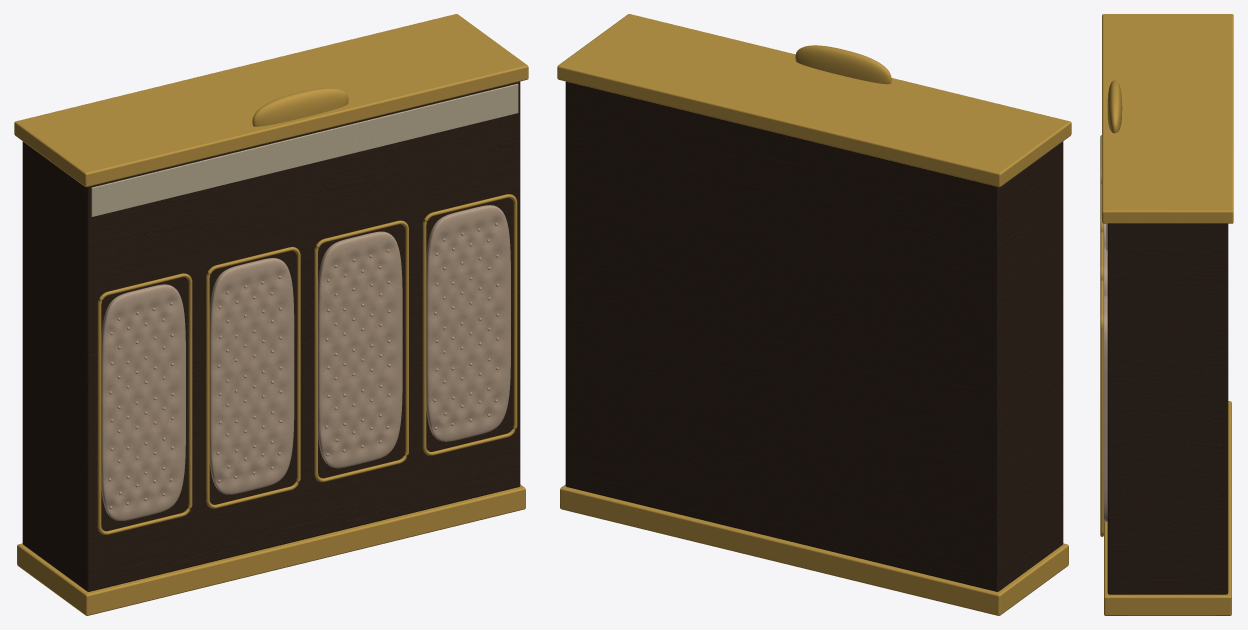
The model's file is empire-royal-bed-set--wardrobe.glb.
The picture shows the model from 3 angles, left to right: view 1: azimuth 30°, elevation 25°; view 2: azimuth 150°, elevation 25°; view 3: azimuth 270°, elevation 25°; orthographic projection. The views are drawn at different scales.
Visible parts, largest first — view 1: body, cornice, door1, door3, door0, door2, band, base, frame0, frame3, frame1, frame2 (+1 smaller); view 2: body, cornice, base, crest; view 3: body, cornice, base, frame3, door3, crest.
Boxes of the visible parts, bbox=[...] form: body: bbox=[22, 81, 520, 591]; cornice: bbox=[14, 14, 528, 187]; door1: bbox=[209, 258, 294, 494]; door3: bbox=[426, 205, 510, 441]; door0: bbox=[101, 284, 185, 520]; door2: bbox=[318, 231, 402, 468]; band: bbox=[91, 83, 518, 216]; base: bbox=[17, 484, 525, 615]; frame0: bbox=[97, 273, 192, 534]; frame3: bbox=[422, 194, 517, 455]; frame1: bbox=[206, 247, 300, 508]; frame2: bbox=[314, 220, 408, 482]; body: bbox=[565, 81, 1063, 591]; cornice: bbox=[557, 14, 1071, 187]; base: bbox=[560, 484, 1068, 615]; crest: bbox=[795, 45, 891, 84]; body: bbox=[1107, 223, 1228, 594]; cornice: bbox=[1102, 14, 1233, 223]; base: bbox=[1104, 401, 1231, 615]; frame3: bbox=[1100, 280, 1103, 536]; door3: bbox=[1104, 295, 1107, 521]; crest: bbox=[1107, 80, 1122, 133].
Bounding box in the file's own units: 2.56 × 2.57 × 0.73.
4 materials, 3 textured.
